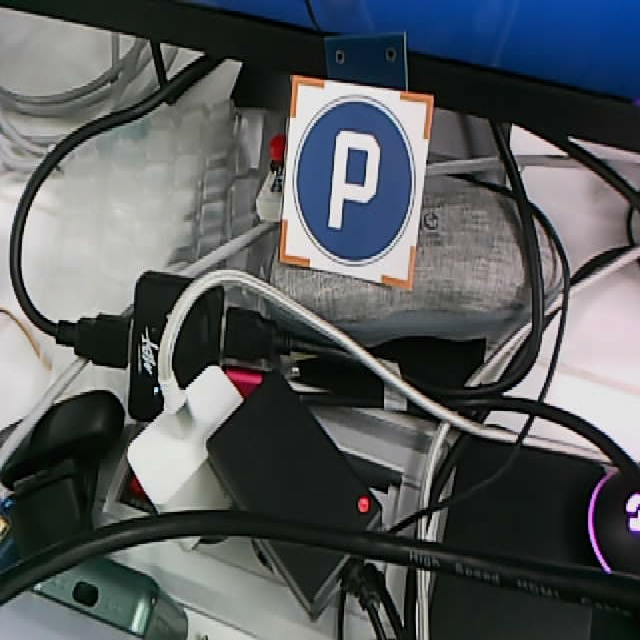parking: (278, 74, 434, 290)
